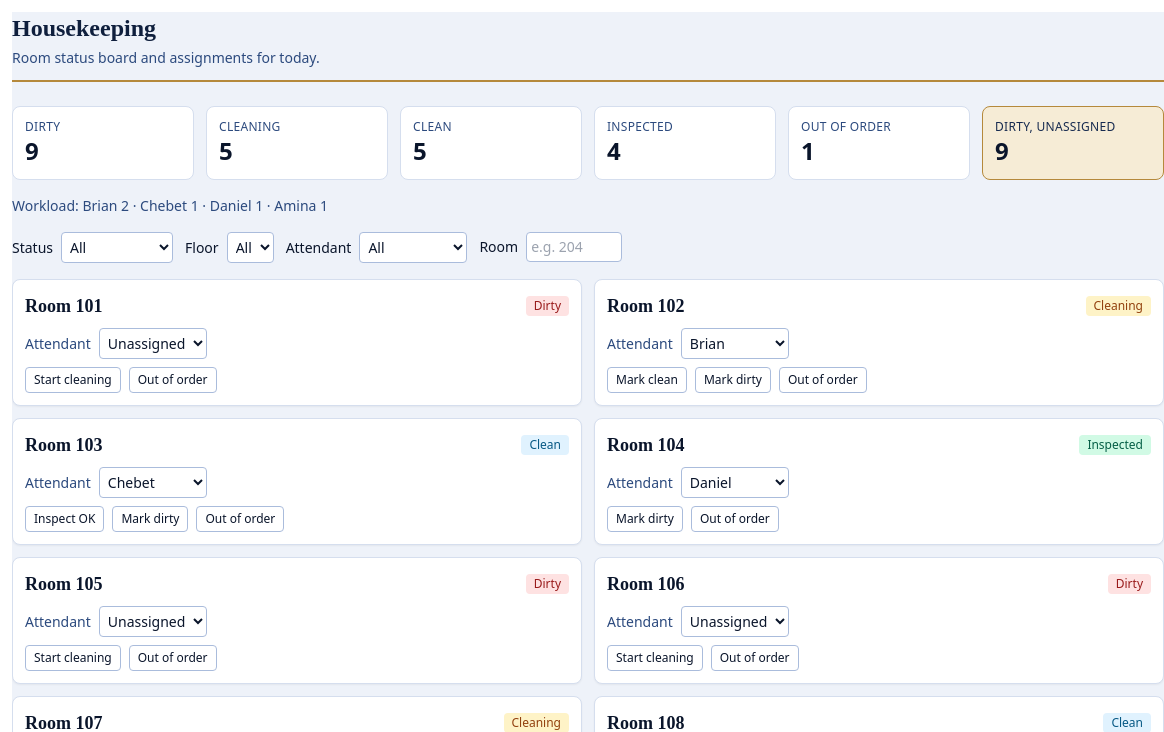
Housekeeping page › blocks starting to clean until an attendant is assigned, then allows it
Check: the text with test id "status-101" reads "Dirty", box [534, 297, 561, 314]
Click the button "Start cleaning" below "101" at (73, 380), box [25, 367, 121, 393]
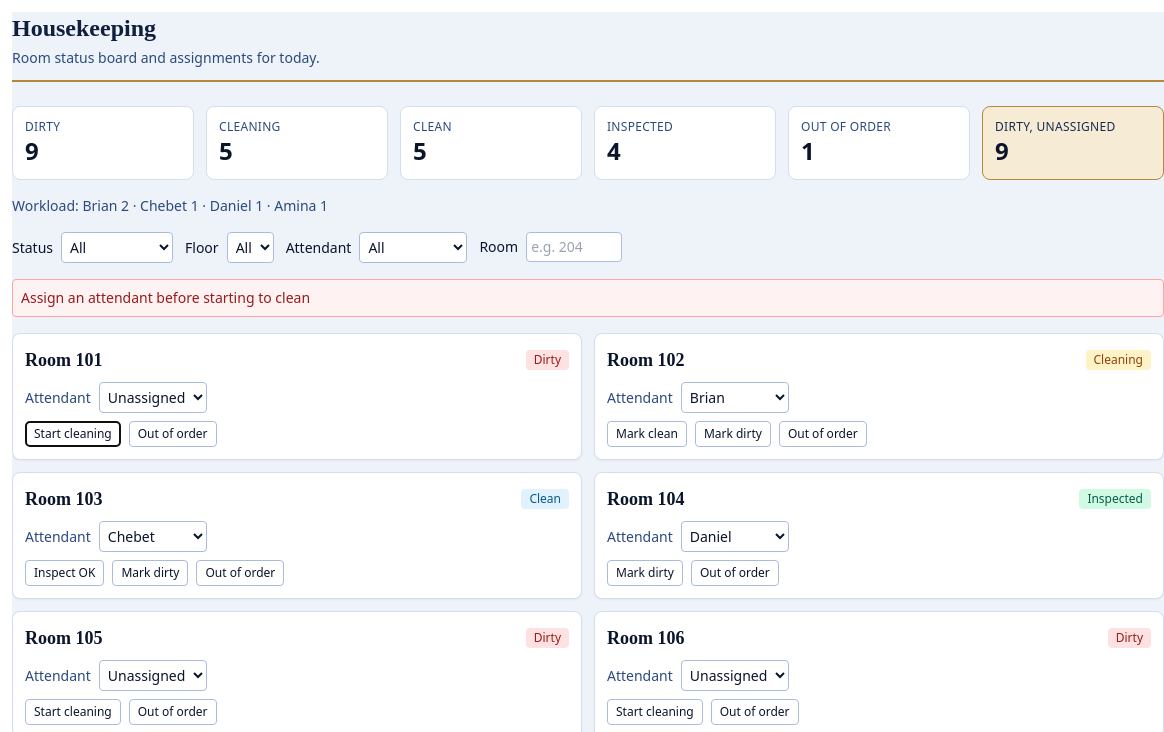
Check: the text with test id "status-101" reads "Dirty", box [534, 351, 561, 368]
Check: the message shows "Assign an attendant", box [21, 288, 310, 307]
Select "Amina" in the dropdown named "Attendant for room 101" at (153, 398), box [99, 382, 207, 413]
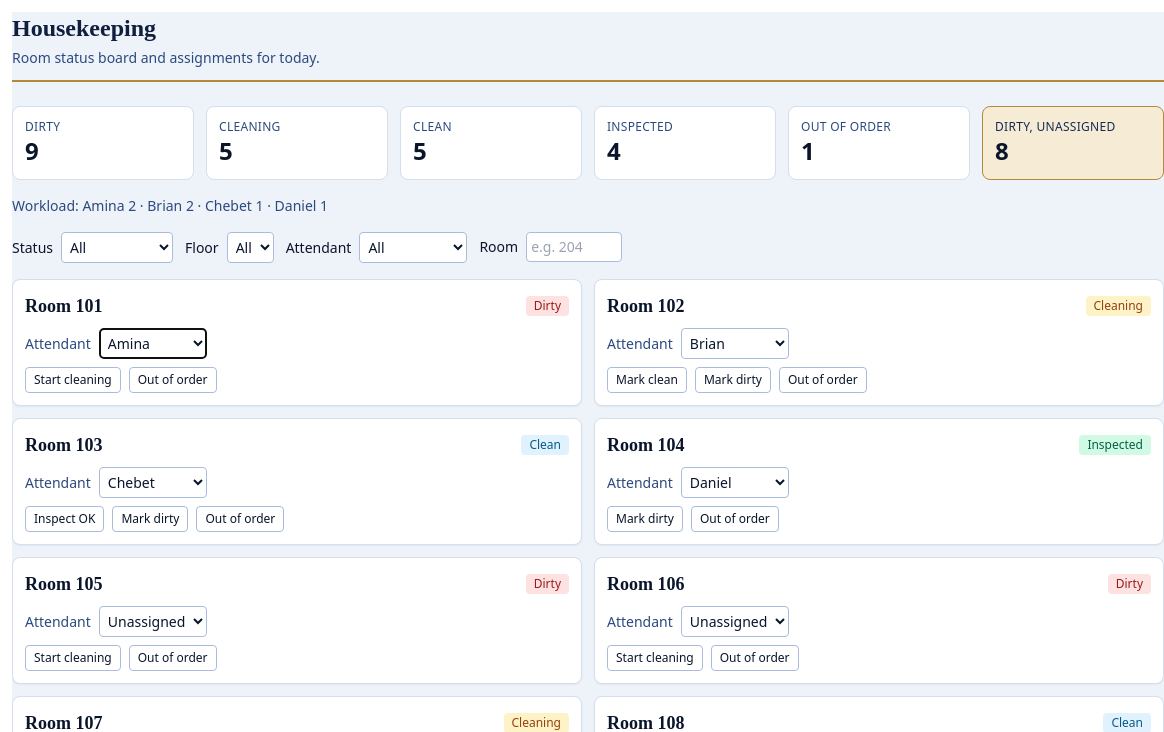
Click the button "Start cleaning" below "101" at (73, 380), box [25, 367, 121, 393]
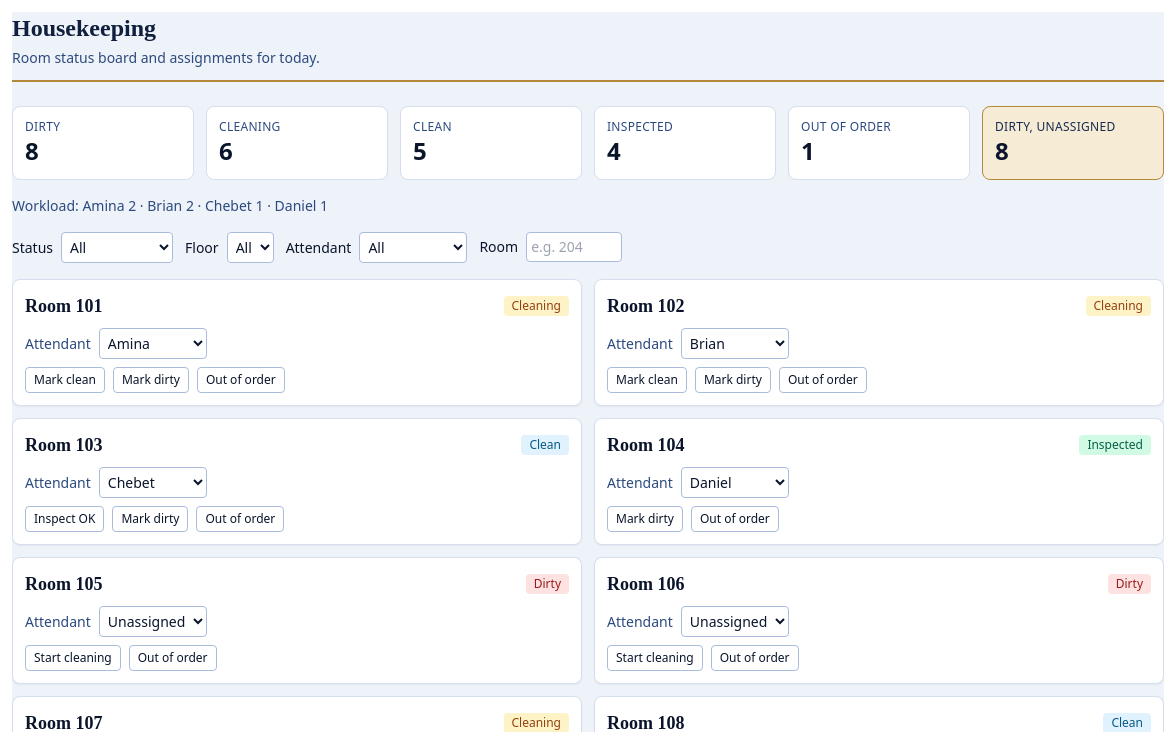
Check: the message "Assign an attendant before starting to clean" is not shown
Check: the text with test id "status-101" reads "Cleaning", box [512, 297, 561, 314]
